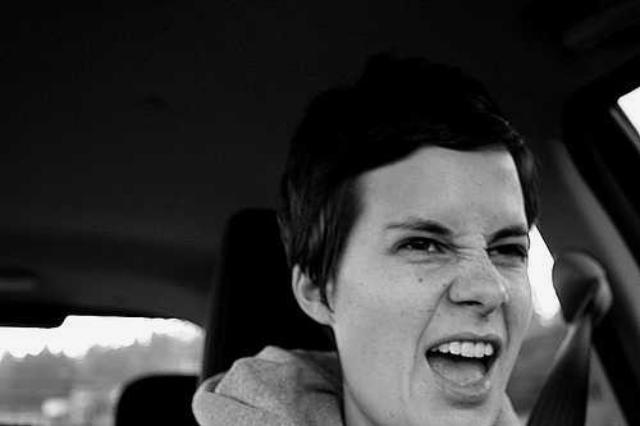SafeDriving: (381, 223, 458, 267), (478, 226, 532, 272)
Seatbelt: (518, 250, 612, 426)
